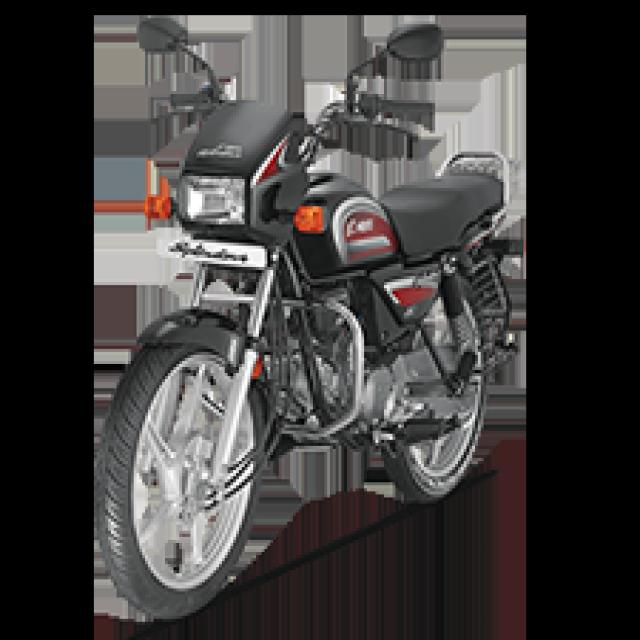Bike: (92, 3, 540, 626)
